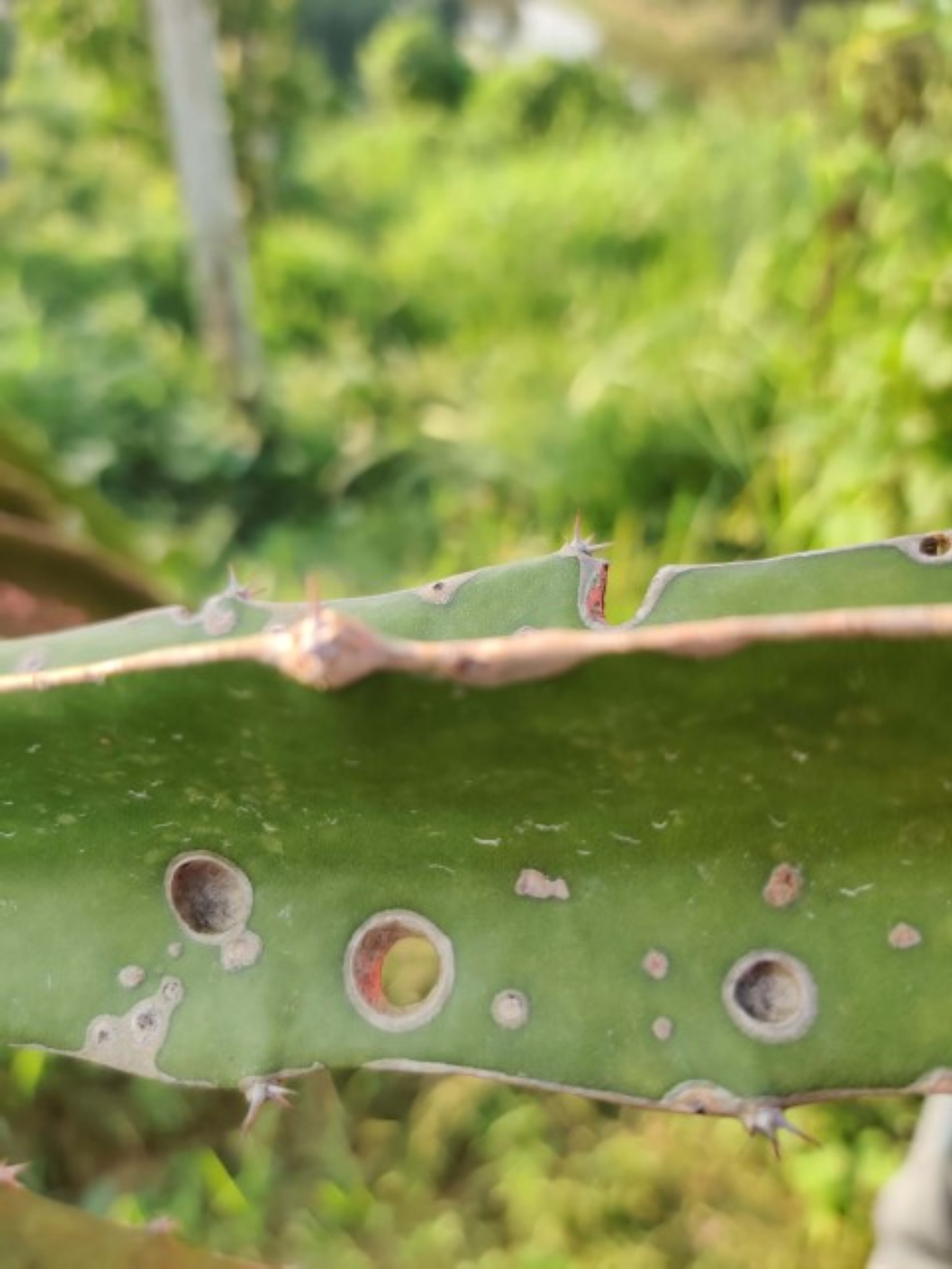stemcanker: (341, 904, 459, 1033), (722, 940, 819, 1042), (155, 847, 255, 941), (580, 556, 677, 631), (489, 985, 532, 1038), (901, 529, 952, 567), (423, 579, 457, 605)
